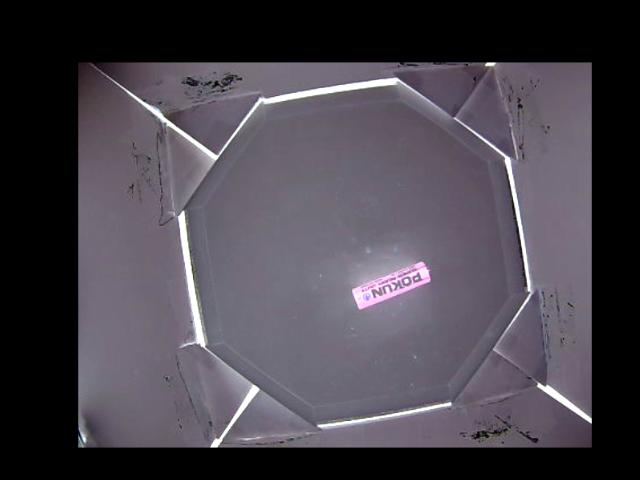Battery: (351, 262, 432, 306)
